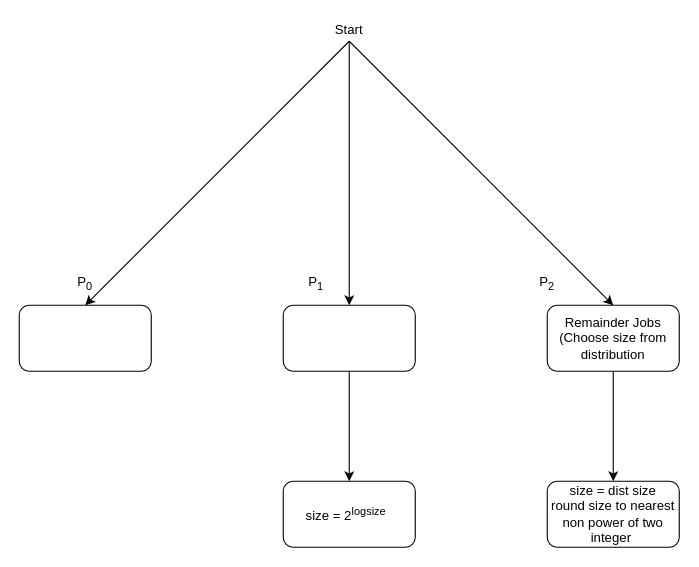
The diagram is 699 pixels wide and 567 high, and some of its shapes have lost their labels. The centre of each missing label's shape, as x and y in pixels:
Power of two (Choose Logsize from distribution): pixel 348 337
Serial Jobs Size = 1: pixel 84 337
